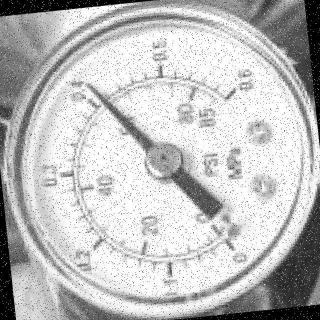gauge: (0, 0, 320, 320), (200, 206, 254, 256), (140, 136, 188, 180), (214, 72, 252, 110), (83, 76, 98, 94)
